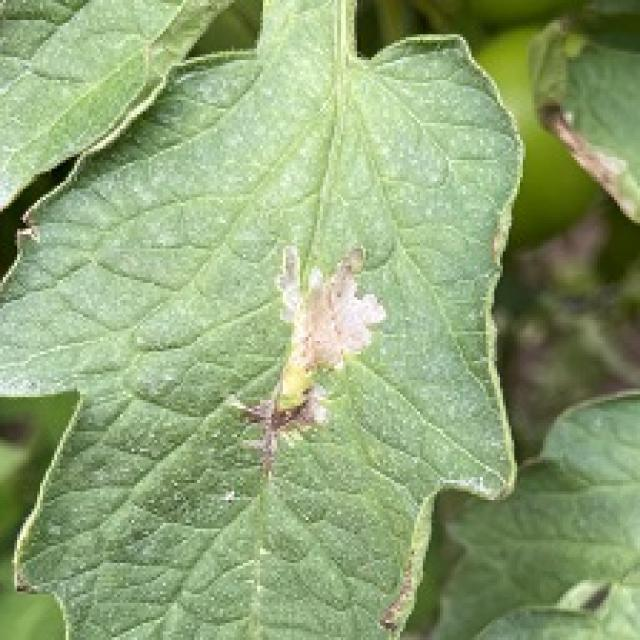Tuta absoluta: (247, 232, 395, 465)
